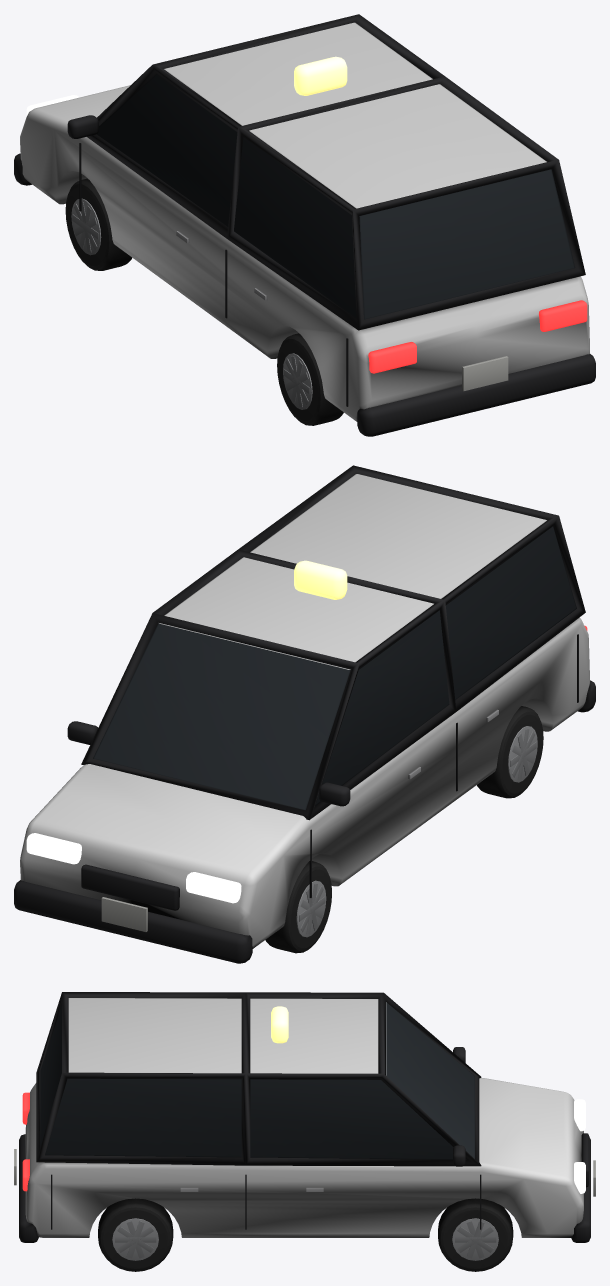
File: car_taxi.glb
3 views of the same model, one above another, from view 1: azimuth 30°, elevation 25°; view 2: azimuth 150°, elevation 25°; view 3: azimuth 270°, elevation 25° (orthographic). The views are drawn at different scales.
Parts seen in each view (by area): view 1: Cabin, Body, Frame, BumperR, WheelMesh_RL, WheelMesh_FL, Light_Tail, Light_Andon, PlateR, Mirror; view 2: Cabin, Body, Frame, BumperF, WheelMesh_RL, WheelMesh_FL, Grille, Light_Head, Light_Andon, PlateF; view 3: Cabin, Body, Frame, WheelMesh_RR, WheelMesh_FR, BumperR, BumperF, Light_Head, Light_Andon, Light_Tail.
Part boxes in pixels (box(x1,y1,x2,y2)): Cabin: box(97, 22, 575, 319); Body: box(20, 85, 589, 421); Frame: box(87, 14, 585, 330); BumperR: box(357, 354, 595, 436); WheelMesh_RL: box(277, 333, 343, 425); WheelMesh_FL: box(65, 178, 131, 270); Light_Tail: box(368, 300, 587, 373); Light_Andon: box(294, 56, 347, 95); PlateR: box(462, 356, 508, 391); Mirror: box(67, 115, 98, 138); Cabin: box(93, 474, 576, 810); Body: box(20, 617, 589, 948); Frame: box(81, 465, 585, 820); BumperF: box(14, 880, 252, 963); WheelMesh_RL: box(477, 706, 543, 798); WheelMesh_FL: box(265, 861, 331, 953); Grille: box(81, 864, 179, 910); Light_Head: box(26, 833, 241, 903); Light_Andon: box(294, 560, 347, 599); PlateF: box(101, 897, 147, 931); Cabin: box(40, 998, 474, 1159); Body: box(25, 1078, 583, 1237); Frame: box(36, 992, 481, 1166); WheelMesh_RR: box(98, 1198, 173, 1271); WheelMesh_FR: box(438, 1198, 513, 1271); BumperR: box(19, 1134, 38, 1242); BumperF: box(571, 1136, 590, 1242); Light_Head: box(574, 1099, 585, 1193); Light_Andon: box(271, 1006, 288, 1043); Light_Tail: box(22, 1092, 29, 1191).
Size of the model in its own units: 2.06 by 1.9 by 4.64.
